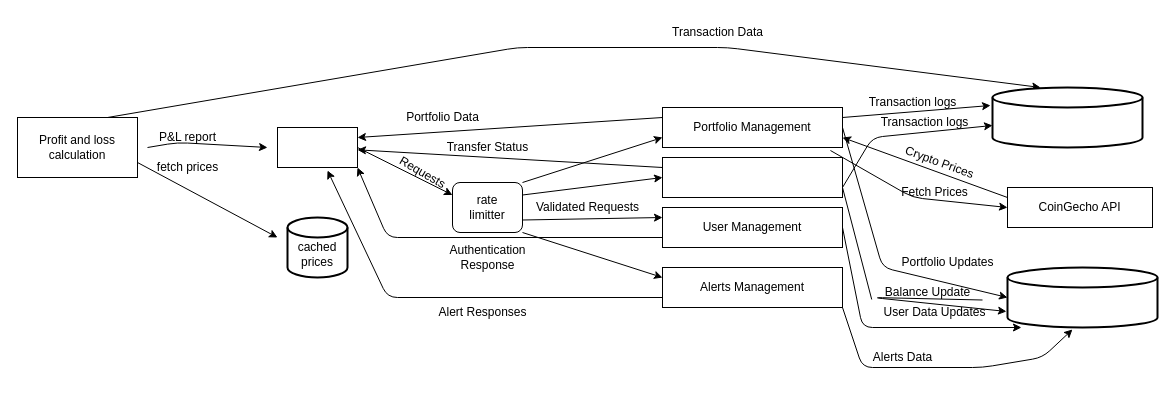
Image size: 1176x393. Some labels were removed from this diagram. The box of each missing label's shape, as (x1, y1, x2, y2) in pixels:
Transaction database: (991, 86, 1143, 148)
Transfer Management: (662, 156, 842, 198)
USERS: (276, 126, 358, 168)
Users database: (1006, 266, 1158, 328)
